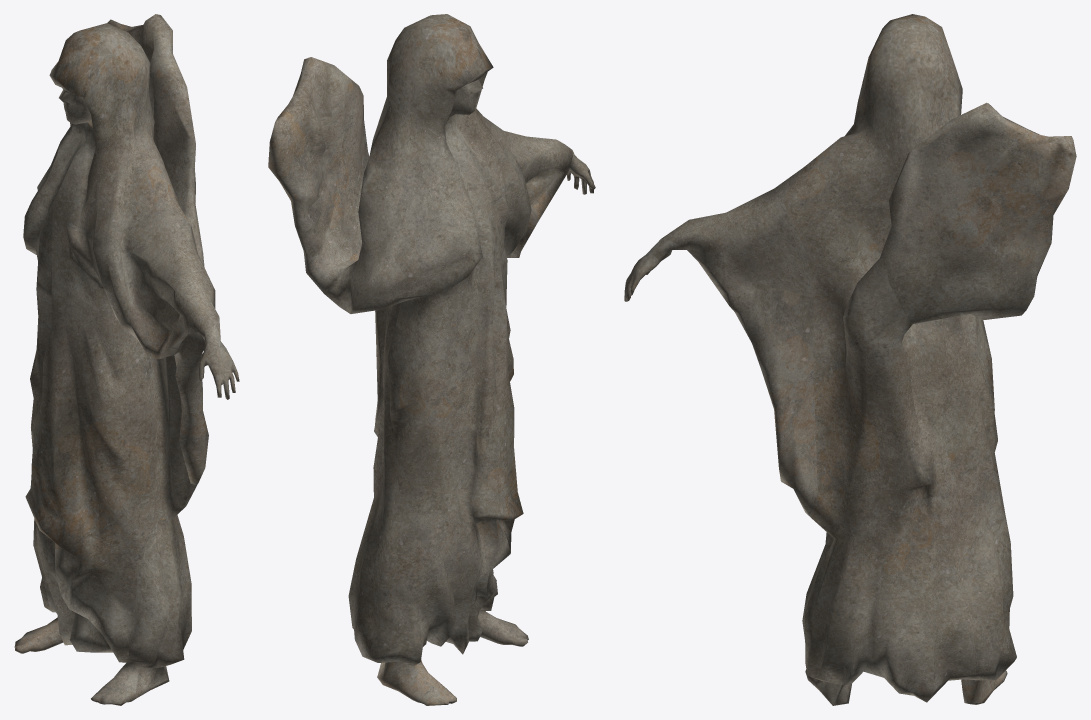
File: SM_Big_Statue.fbx
The picture shows the model from 3 angles, left to right: view 1: azimuth 30°, elevation 25°; view 2: azimuth 150°, elevation 25°; view 3: azimuth 270°, elevation 25°; orthographic projection. The views are drawn at different scales.
Visible parts, largest first — view 1: SM_Big_Statue_LOD0; view 2: SM_Big_Statue_LOD0; view 3: SM_Big_Statue_LOD0.
Part boxes in pixels (x1,y1,x2,y2): SM_Big_Statue_LOD0: [14, 14, 239, 705]; SM_Big_Statue_LOD0: [268, 14, 595, 705]; SM_Big_Statue_LOD0: [624, 14, 1076, 705].
Size of the model in its own units: 194 by 430 by 707.
